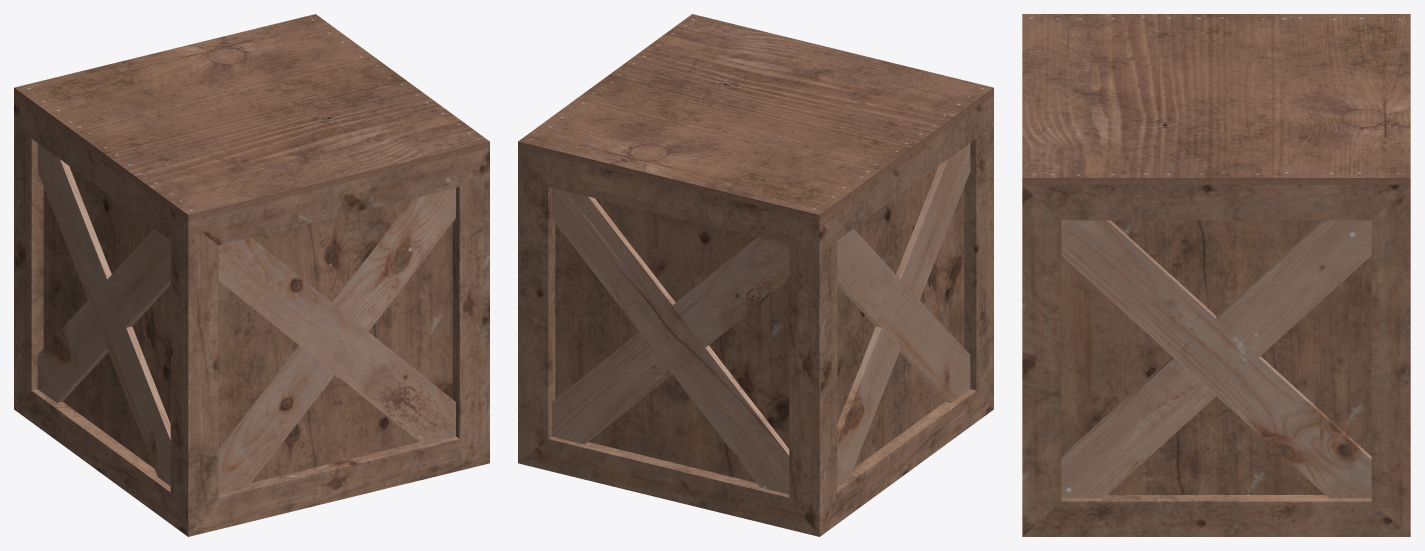
The model's file is wooden_crate.obj.
3 views of the same model, side by side, from view 1: azimuth 30°, elevation 25°; view 2: azimuth 150°, elevation 25°; view 3: azimuth 270°, elevation 25° (orthographic). The views are drawn at different scales.
Parts seen in each view (by area): view 1: Wooden_Crate_001; view 2: Wooden_Crate_001; view 3: Wooden_Crate_001.
Part boxes in pixels (x1,y1,x2,y2): Wooden_Crate_001: [14, 14, 489, 536]; Wooden_Crate_001: [518, 14, 993, 536]; Wooden_Crate_001: [1022, 14, 1410, 536].
Size of the model in its own units: 1 by 1.02 by 1.
1 material, 1 textured.
